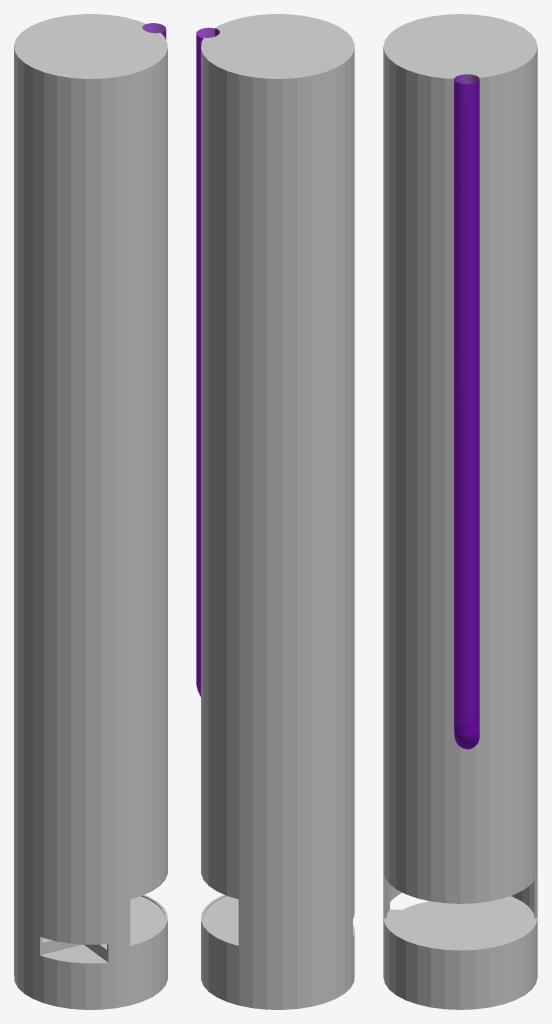
File: Animation-TourGeanteAscenseurMateriaux.fbx
3 views of the same model, side by side, from view 1: azimuth 30°, elevation 25°; view 2: azimuth 150°, elevation 25°; view 3: azimuth 270°, elevation 25° (orthographic).
Visible parts, largest first — view 1: Tour; view 2: Tour, TubeAscenseur; view 3: Tour, TubeAscenseur.
Boxes of the visible parts, box(x1,y1,x2,y2) form: Tour: box(14, 14, 167, 1009); Tour: box(201, 14, 354, 1009); TubeAscenseur: box(196, 27, 219, 696); Tour: box(383, 14, 537, 1009); TubeAscenseur: box(454, 74, 479, 749).
Size of the model in its own units: 6440 by 40000 by 6000.
